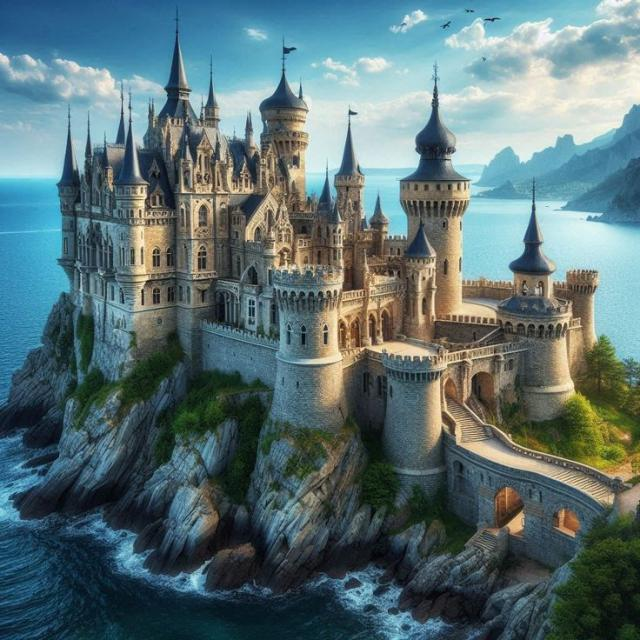castle: (44, 11, 626, 464)
